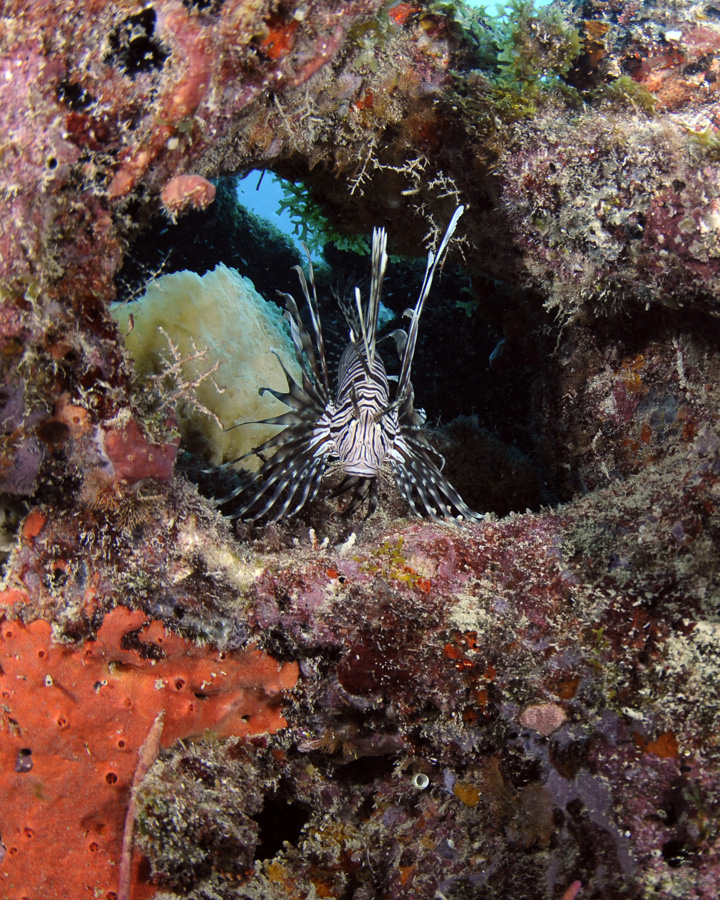Pterois_volitans: (232, 235, 506, 546)
